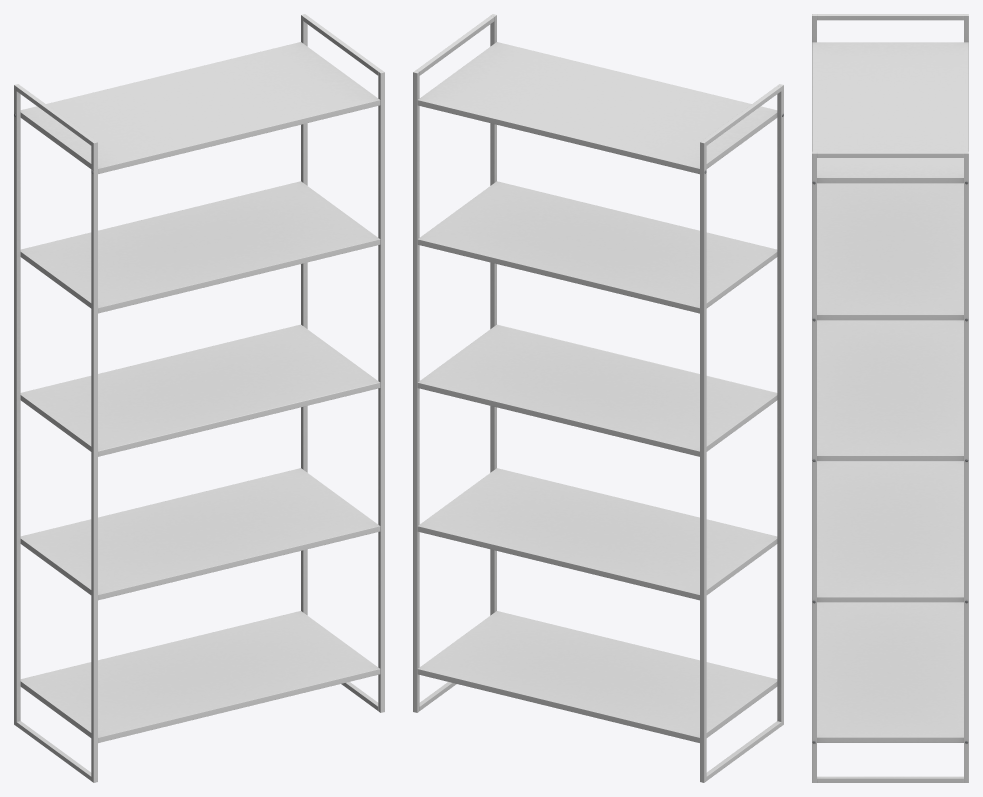
The model's file is Shelve_002.gltf.
3 renders of one model, left to right at view 1: azimuth 30°, elevation 25°; view 2: azimuth 150°, elevation 25°; view 3: azimuth 270°, elevation 25°, orthographic.
Visible parts, largest first — view 1: Shelve_002; view 2: Shelve_002; view 3: Shelve_002.
Boxes of the visible parts, x1,y1,x2,y2 form: Shelve_002: (14, 14, 384, 782); Shelve_002: (413, 14, 783, 782); Shelve_002: (812, 14, 968, 782).
Size of the model in its own units: 0.8014 by 1.68 by 0.3786.
Materials: 1 (1 with a texture image).
